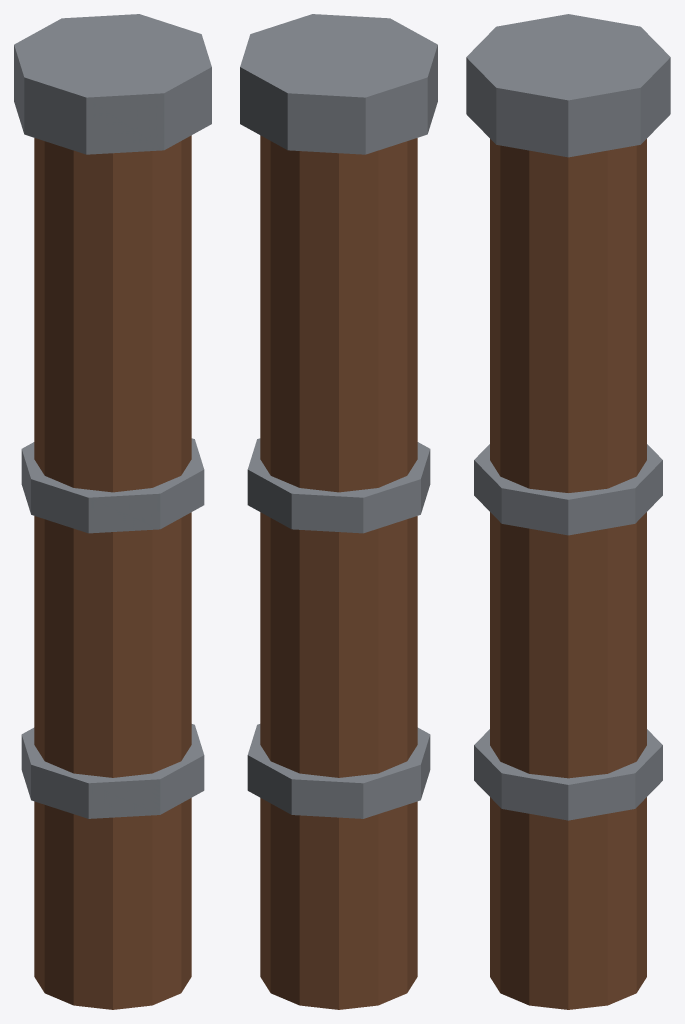
File: DETAIL_Steam_Pipe_Vent.glb
3 views of the same model, side by side, from view 1: azimuth 30°, elevation 25°; view 2: azimuth 150°, elevation 25°; view 3: azimuth 270°, elevation 25° (orthographic).
Visible parts, largest first — view 1: DETAIL_Steam_Pipe_Vent; view 2: DETAIL_Steam_Pipe_Vent; view 3: DETAIL_Steam_Pipe_Vent.
Part boxes in pixels (x1,y1,x2,y2): DETAIL_Steam_Pipe_Vent: (14,14,211,1009); DETAIL_Steam_Pipe_Vent: (240,14,437,1009); DETAIL_Steam_Pipe_Vent: (466,14,670,1009).
Size of the model in its own units: 0.26 by 1.29 by 0.26.
